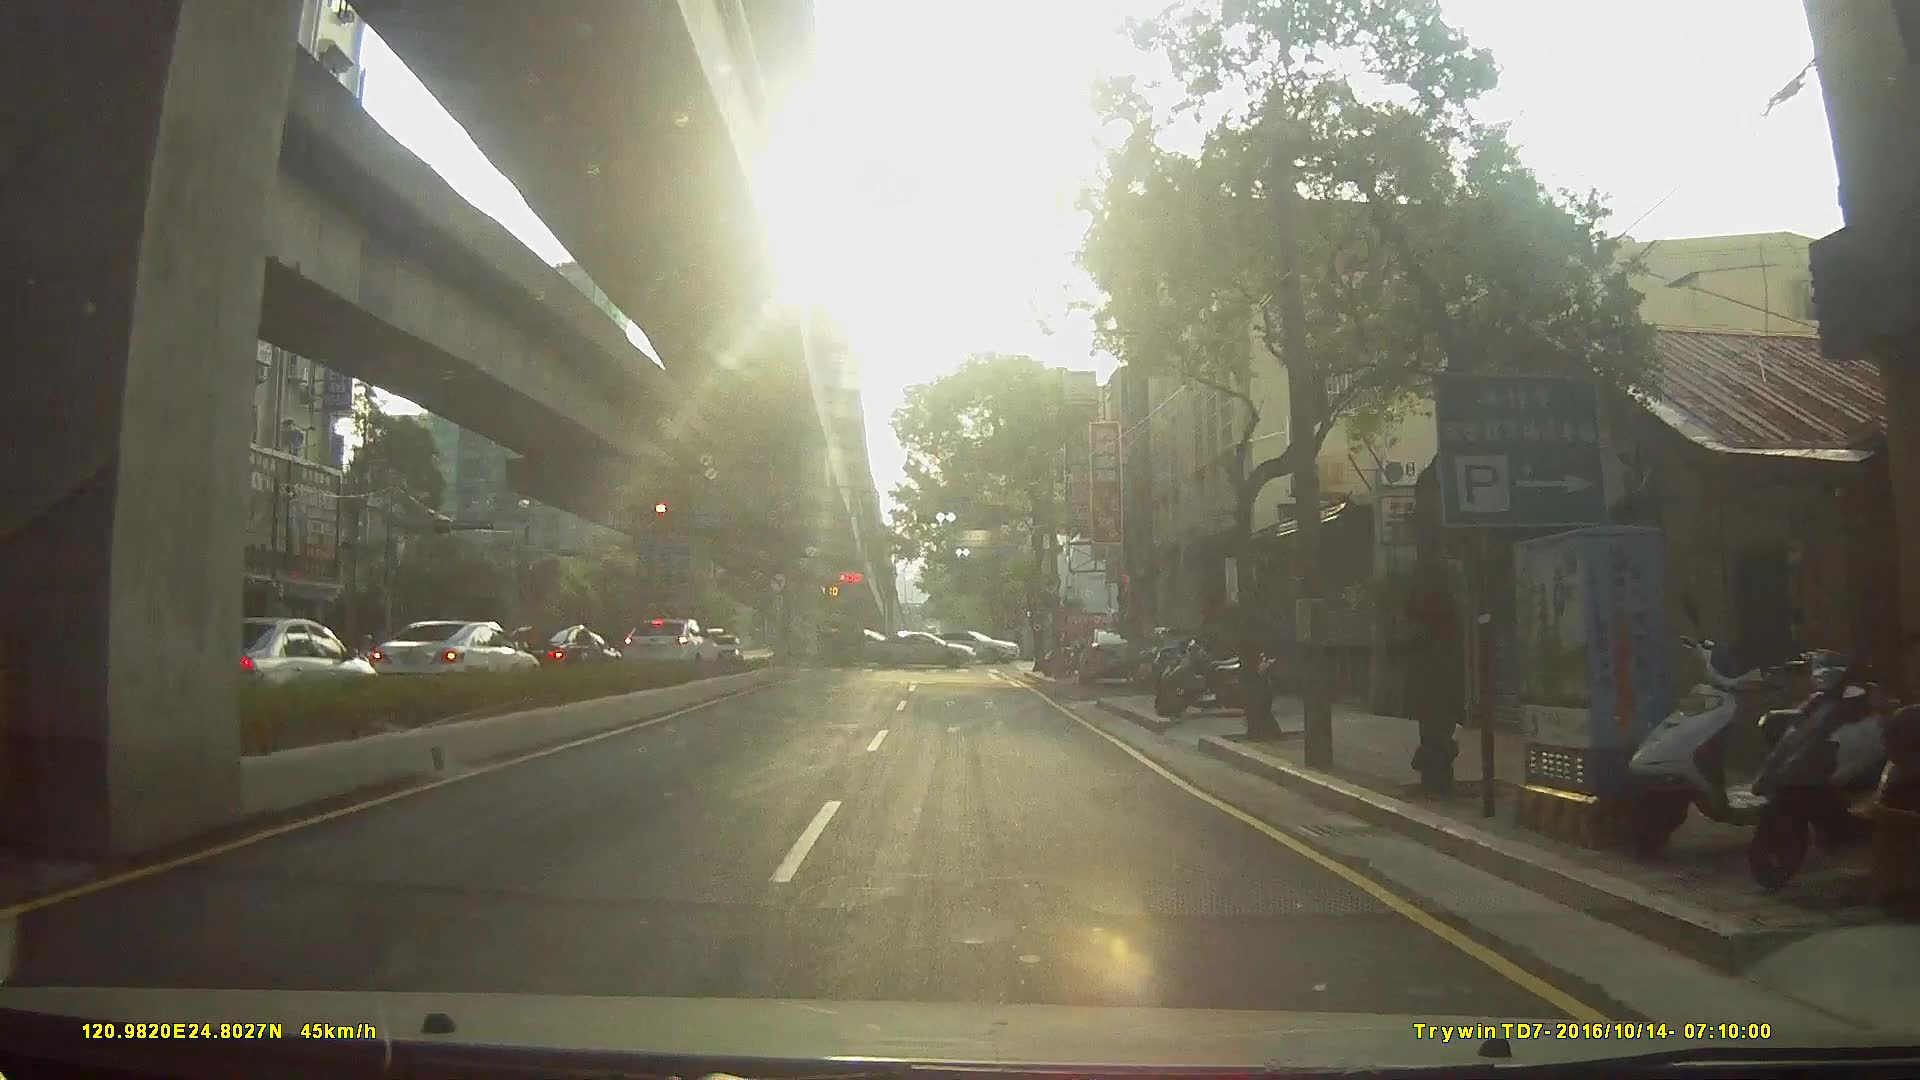vehicle: (164, 615, 376, 712), (364, 617, 550, 702), (491, 621, 621, 683), (615, 615, 723, 673), (1073, 625, 1149, 687), (872, 626, 984, 667), (822, 626, 906, 669), (938, 626, 1026, 665), (705, 632, 742, 666)
